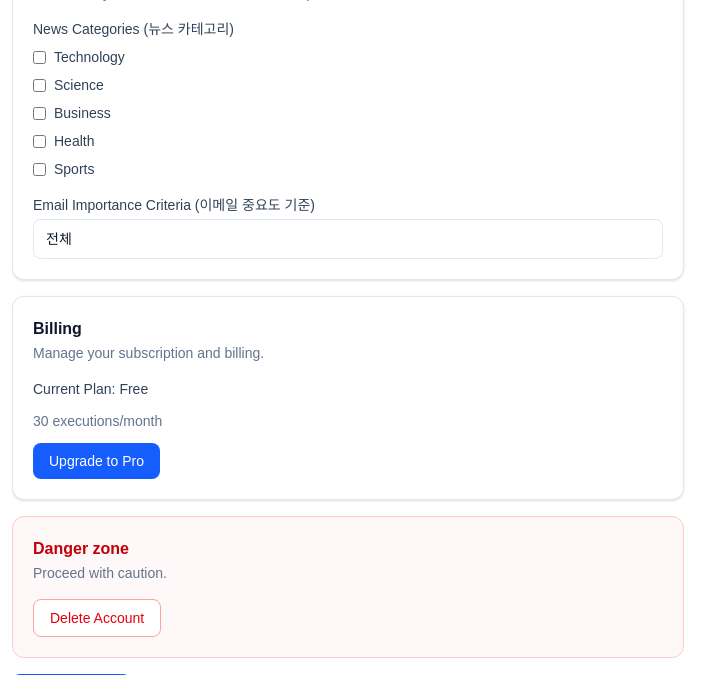
Scenario: TC-8005: Stripe 결제 실패 → 플랜 unchanged, 에러 표시 › TC-8005: checkout API 실패 → 에러 메시지 표시
This screenshot has width=701, height=675.
(page scrolled)
Click the button "Upgrade to Pro": point(96, 461) [33,443,160,479]
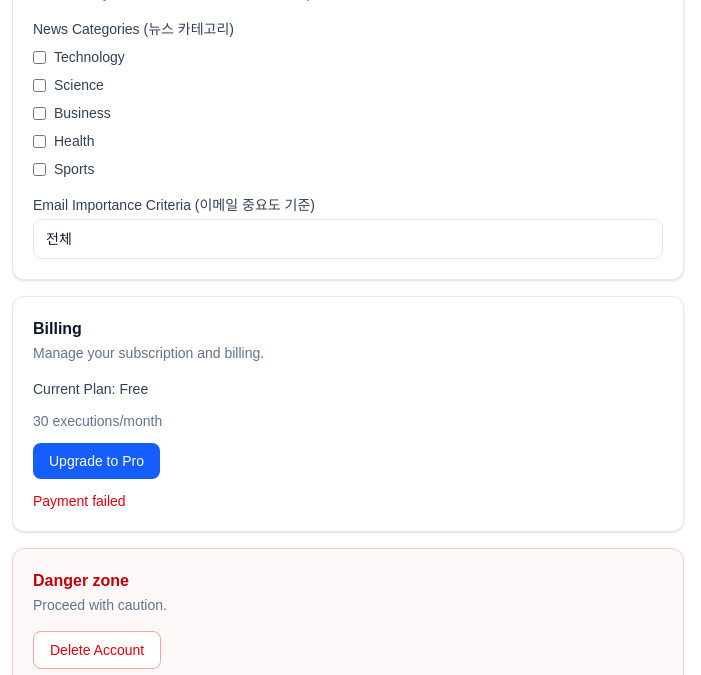
Check: the text "Payment failed" is shown, box [33,493,126,509]
